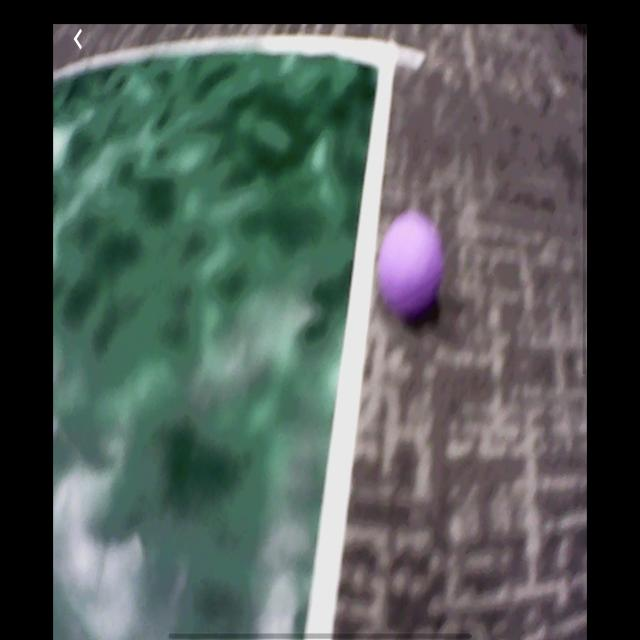ball: (376, 208, 444, 323)
